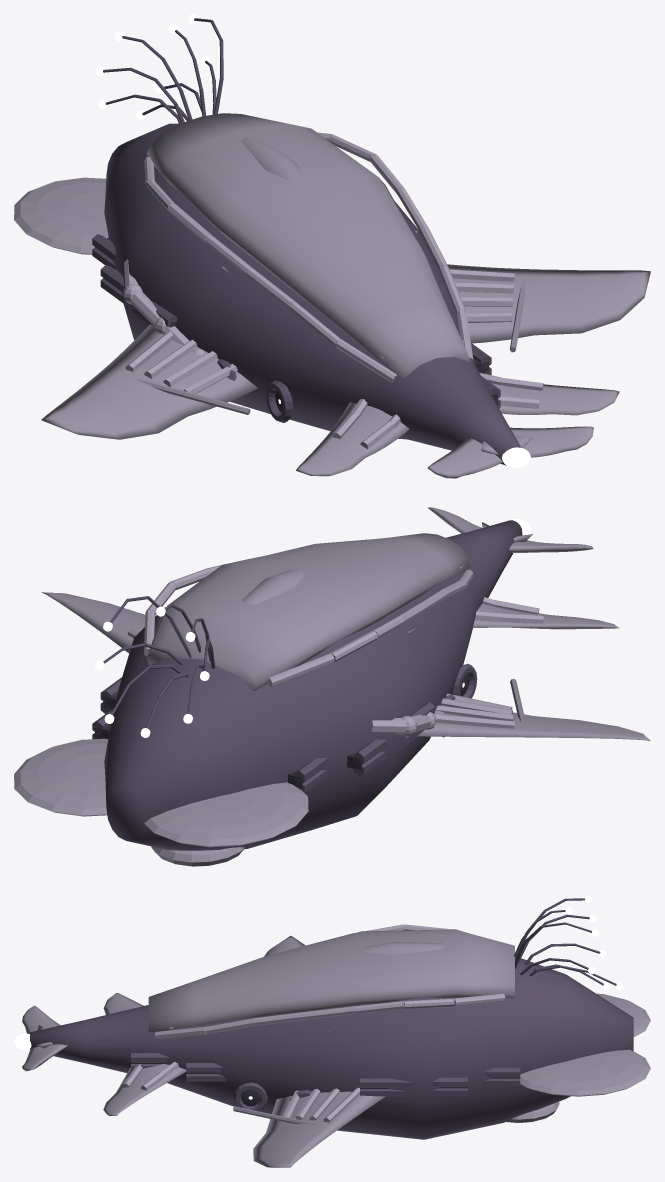
3 views of the same model, one above another, from view 1: azimuth 30°, elevation 25°; view 2: azimuth 150°, elevation 25°; view 3: azimuth 270°, elevation 25° (orthographic). The views are drawn at different scales.
Visible parts, largest first — view 1: RIMWARD_HULL; view 2: RIMWARD_HULL, RIMWARD_EMISSIVE; view 3: RIMWARD_HULL, RIMWARD_EMISSIVE.
Part boxes in pixels (x1,y1,x2,y2): RIMWARD_HULL: (14, 18, 650, 478); RIMWARD_HULL: (14, 507, 650, 866); RIMWARD_EMISSIVE: (95, 606, 464, 737); RIMWARD_HULL: (22, 898, 650, 1167); RIMWARD_EMISSIVE: (248, 895, 623, 1099).
Bounding box in the file's own units: 6.96 × 3.13 × 8.08.
